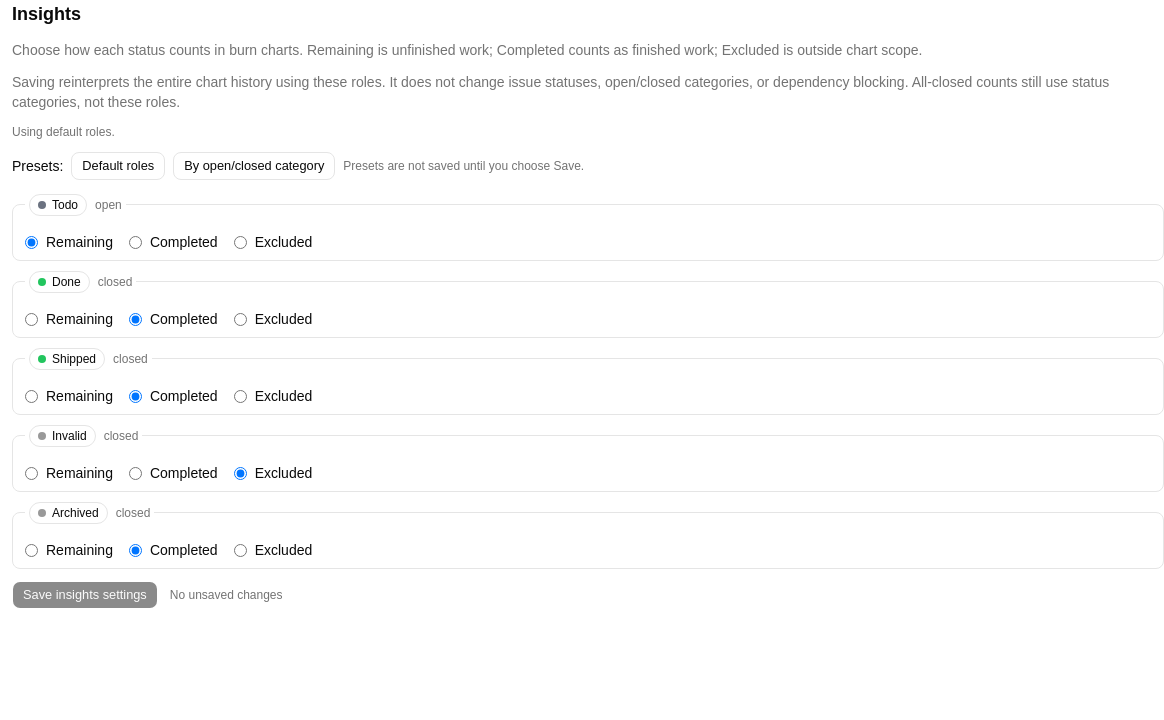
Scenario: InsightsSettings › tracks a radio change and changing it back without contacting the server
Click the radio button labelled "Completed" below "Todo" at (135, 242), box 129,236 -> 142,248
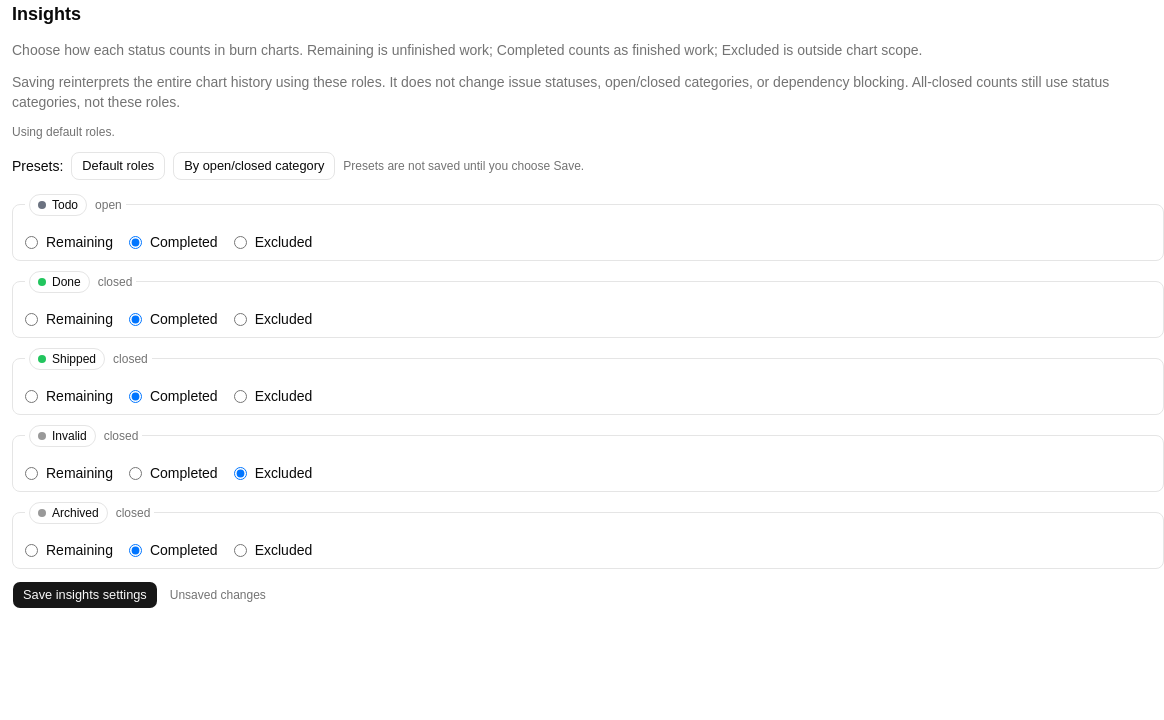
Now the button "Save insights settings" is enabled, box 12,581 -> 158,609
Click the radio button labelled "Remaining" below "Todo" at (32, 242), box 25,236 -> 38,248
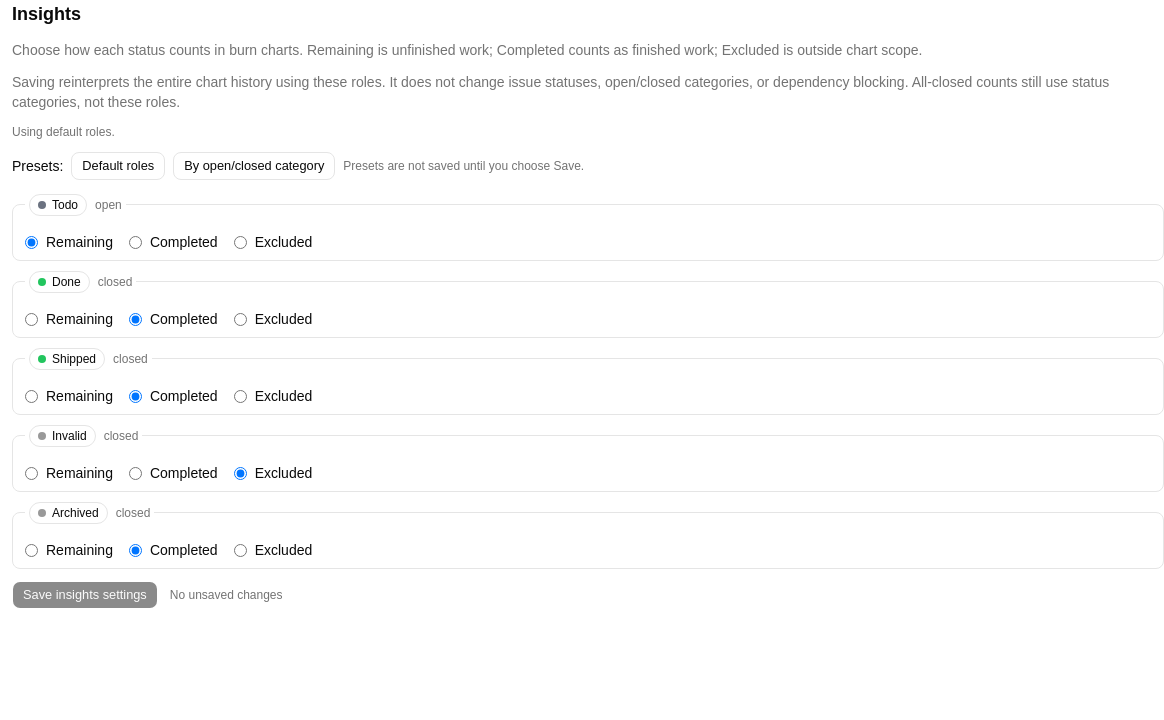
Now the button "Save insights settings" is disabled, box 12,581 -> 158,609
